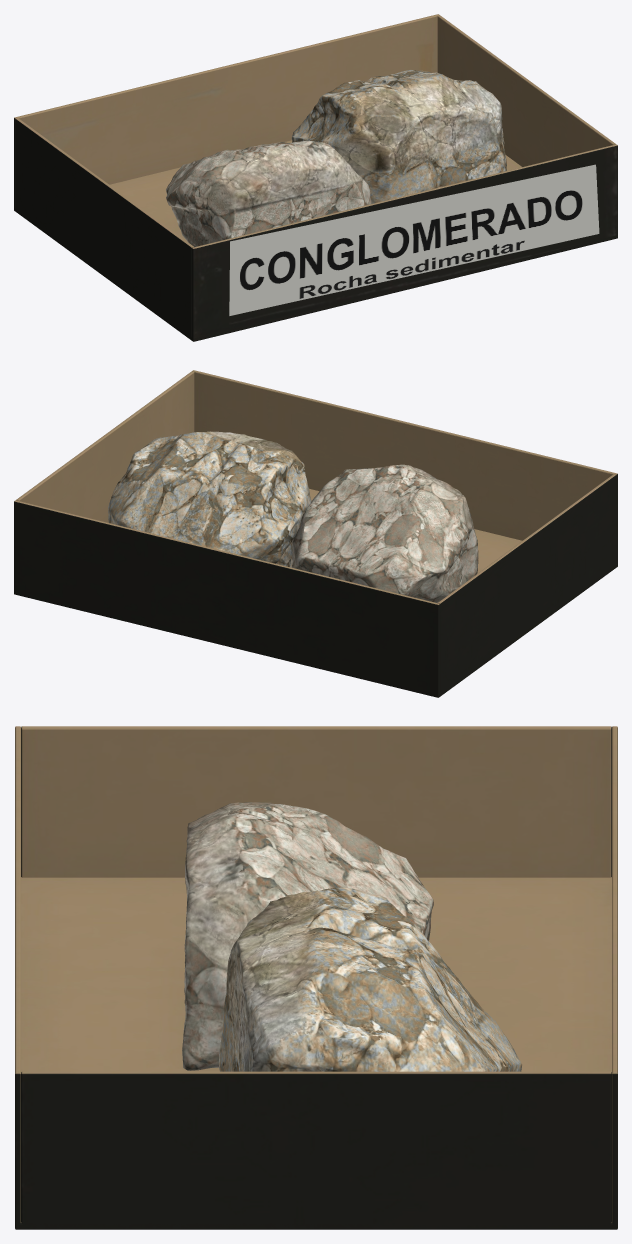
The model's file is rocha_02_02_conglomerado.glb.
The picture shows the model from 3 angles, top to bottom: view 1: azimuth 30°, elevation 25°; view 2: azimuth 150°, elevation 25°; view 3: azimuth 270°, elevation 25°; orthographic projection. The views are drawn at different scales.
Visible parts, largest first — view 1: Bandeja_Fundo_mo02, Etiqueta_mo02, Fragmento_02_mo02, Bandeja_Esquerda_mo02, Fragmento_01_mo02, Bandeja_Frente_mo02, Bandeja_Direita_mo02, Bandeja_Base_mo02; view 2: Bandeja_Fundo_mo02, Bandeja_Frente_mo02, Fragmento_02_mo02, Fragmento_01_mo02, Bandeja_Esquerda_mo02, Bandeja_Direita_mo02, Bandeja_Base_mo02; view 3: Bandeja_Direita_mo02, Bandeja_Esquerda_mo02, Bandeja_Base_mo02, Fragmento_02_mo02, Fragmento_01_mo02, Bandeja_Frente_mo02, Bandeja_Fundo_mo02.
Boxes of the visible parts, bbox=[...] form: Bandeja_Fundo_mo02: bbox=[14, 14, 439, 208]; Etiqueta_mo02: bbox=[229, 164, 599, 315]; Fragmento_02_mo02: bbox=[291, 69, 506, 203]; Bandeja_Esquerda_mo02: bbox=[15, 118, 193, 339]; Fragmento_01_mo02: bbox=[166, 140, 371, 246]; Bandeja_Frente_mo02: bbox=[192, 144, 617, 341]; Bandeja_Direita_mo02: bbox=[437, 15, 615, 166]; Bandeja_Base_mo02: bbox=[14, 140, 617, 341]; Bandeja_Fundo_mo02: bbox=[14, 500, 439, 697]; Bandeja_Frente_mo02: bbox=[192, 370, 617, 566]; Fragmento_02_mo02: bbox=[108, 431, 311, 567]; Fragmento_01_mo02: bbox=[292, 464, 478, 602]; Bandeja_Esquerda_mo02: bbox=[438, 474, 616, 695]; Bandeja_Direita_mo02: bbox=[16, 371, 194, 522]; Bandeja_Base_mo02: bbox=[137, 488, 617, 697]; Bandeja_Direita_mo02: bbox=[21, 1071, 611, 1229]; Bandeja_Esquerda_mo02: bbox=[21, 726, 611, 877]; Bandeja_Base_mo02: bbox=[15, 877, 617, 1229]; Fragmento_02_mo02: bbox=[219, 887, 521, 1071]; Fragmento_01_mo02: bbox=[182, 802, 433, 1070]; Bandeja_Frente_mo02: bbox=[15, 726, 20, 1228]; Bandeja_Fundo_mo02: bbox=[612, 726, 617, 1229].
Bounding box in the file's own units: 0.202 × 0.0547 × 0.1482.
3 materials, 3 textured.
